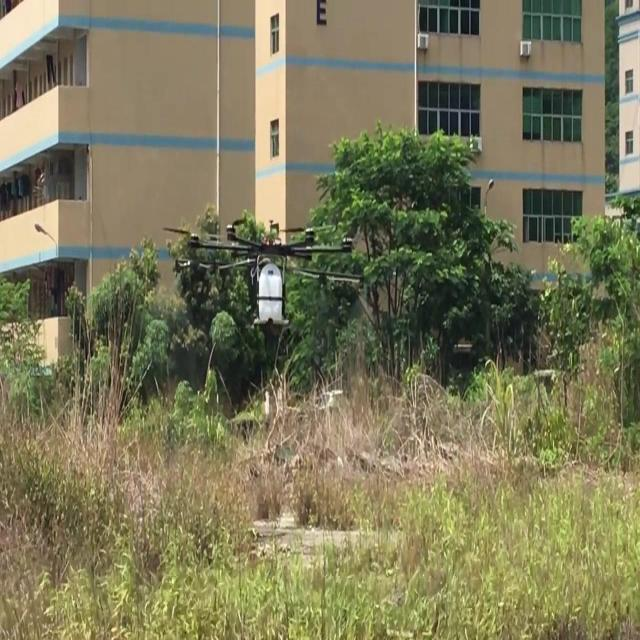UAV: (162, 219, 364, 326)
